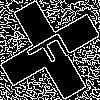F: (25, 25, 80, 74)
